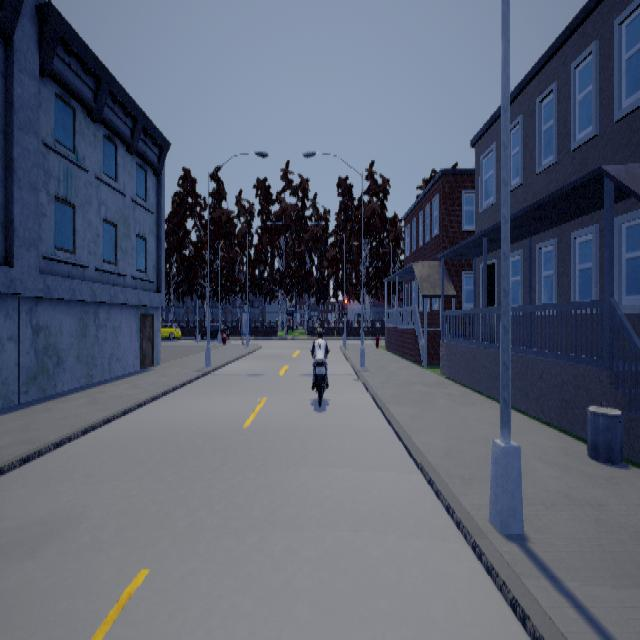motobike: (309, 328, 331, 411)
red_light: (343, 295, 346, 315)
